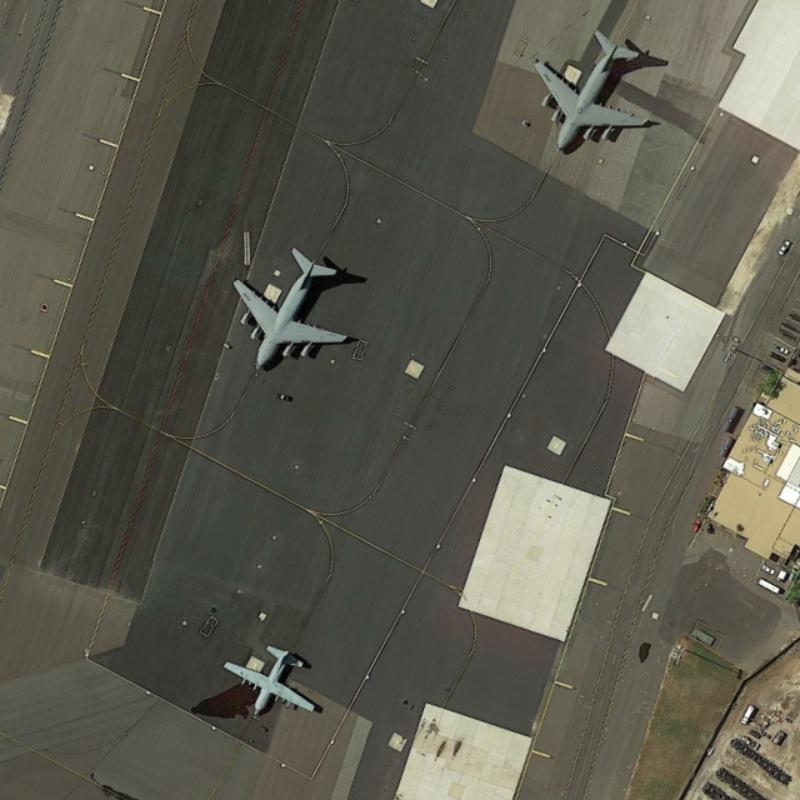A2: (219, 641, 320, 719)
A3: (229, 241, 357, 375), (531, 25, 655, 153)
